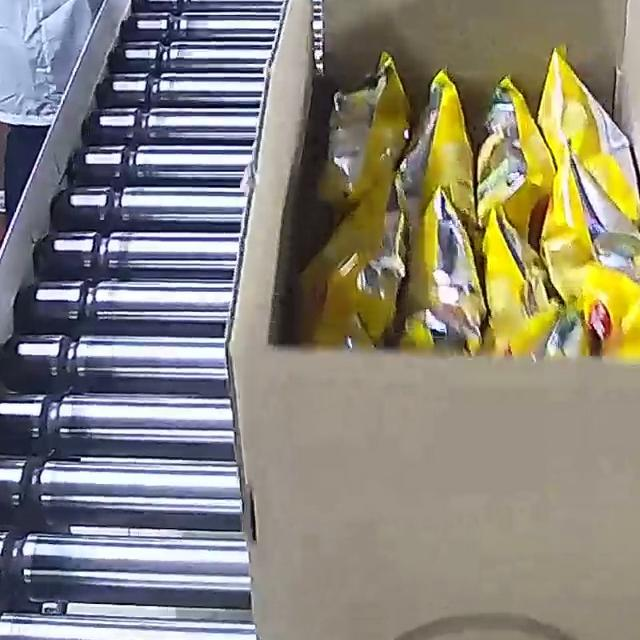salted: (290, 0, 630, 364)
